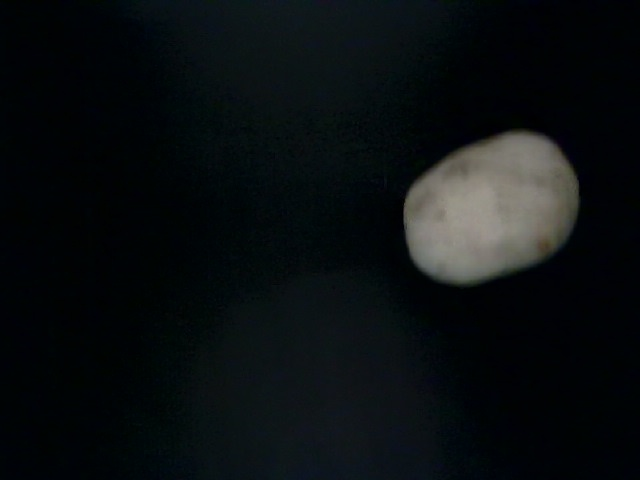QTLJ: (216, 100, 417, 387)
